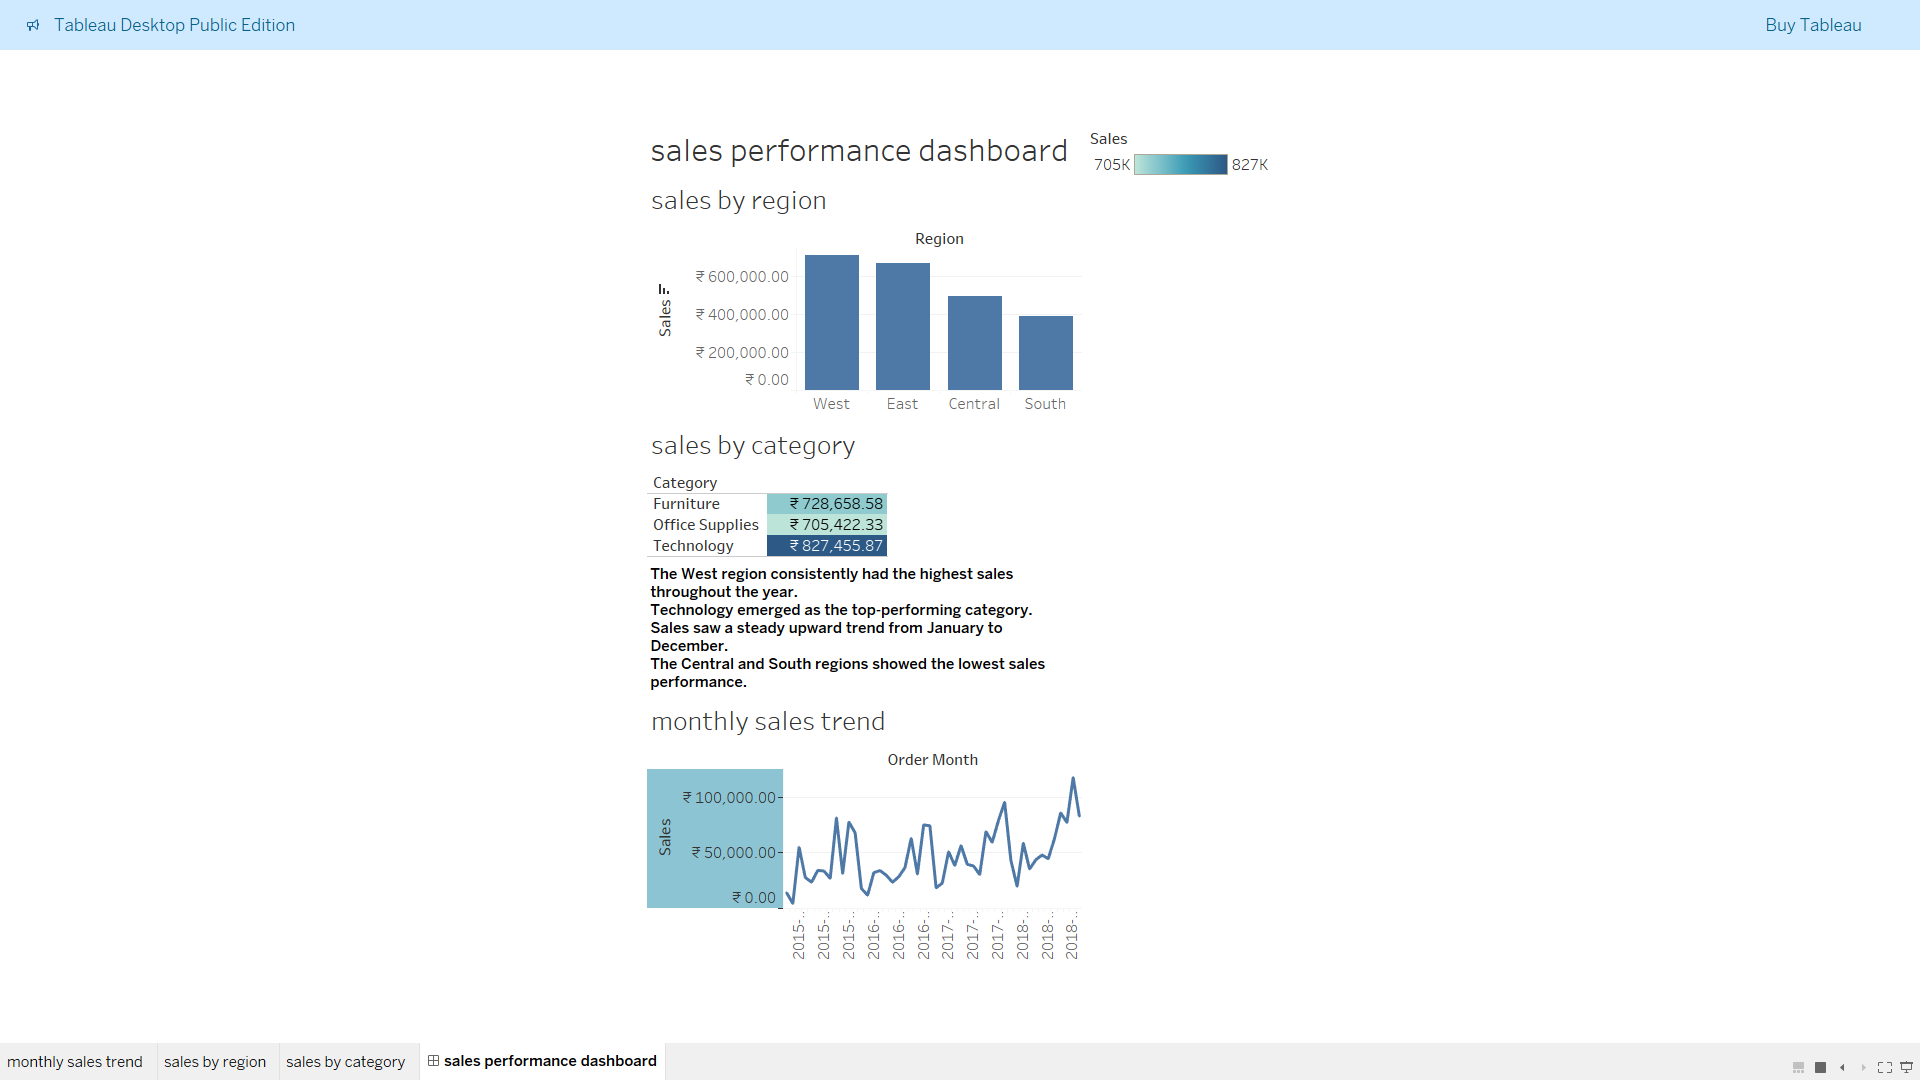

The page's visual inventory and layout, read from the dashboard file:
{"tool":"tableau","page":{"name":"sales performance dashboard","canvas":[650,860],"ordinal":0},"visuals":[{"type":"title","box":[8,8.6,443,53.6]},{"type":"legend","title":"sales by category","param":"[federated.0xg1e061ctr4ux1foifzt1ksp0mp].[sum:Sales:qk]","box":[451,8.6,191,78.3]},{"type":"worksheet","title":"sales by region","mark":"Automatic","rows":["Sales"],"cols":["Region"],"box":[8,62.2,443,234.8]},{"type":"worksheet","title":"sales by category","mark":"Square","rows":["Category"],"box":[8,297,443,152.3]},{"type":"text","box":[8,449.3,443,143.7]},{"type":"worksheet","title":"monthly sales trend","mark":"Line","rows":["Sales"],"cols":["Order Month"],"box":[8,593,443,258.4]}]}

Visuals, with their boxes on the page's 650x860 design canvas (x1, y1, x2, y2). These are canvas units, not pixel positions in the 1920x1080 screenshot, which may show the page scaled, cropped or inside an application window:
title: bbox(8, 9, 451, 62)
"sales by category" legend: bbox(451, 9, 642, 87)
"sales by region" worksheet: bbox(8, 62, 451, 297)
"sales by category" worksheet (Square marks): bbox(8, 297, 451, 449)
text: bbox(8, 449, 451, 593)
"monthly sales trend" worksheet (Line marks): bbox(8, 593, 451, 851)
